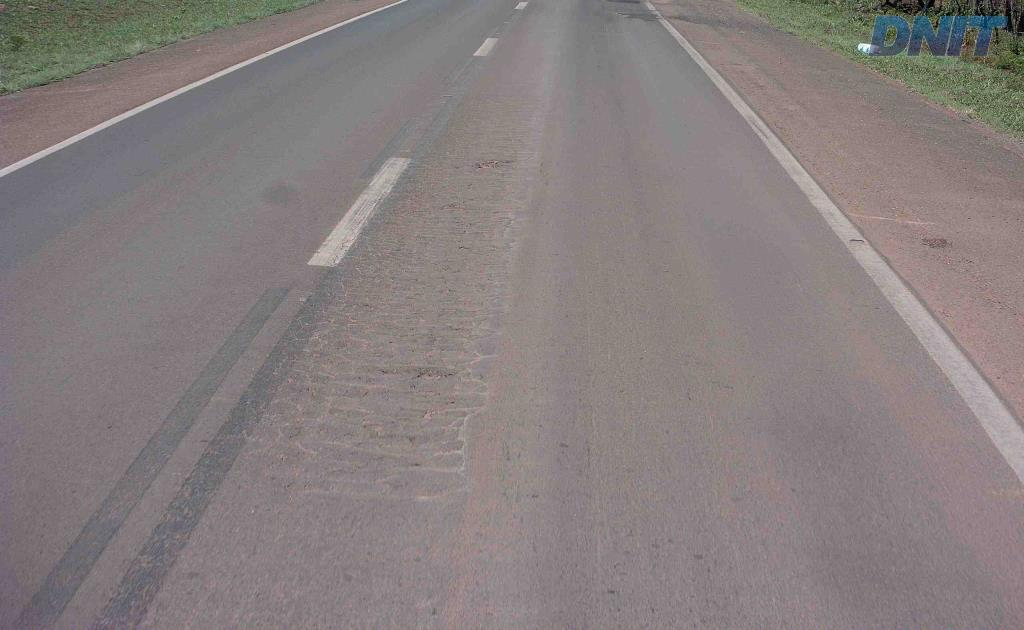crack: (318, 234, 412, 355), (282, 372, 325, 414), (403, 361, 457, 380)
